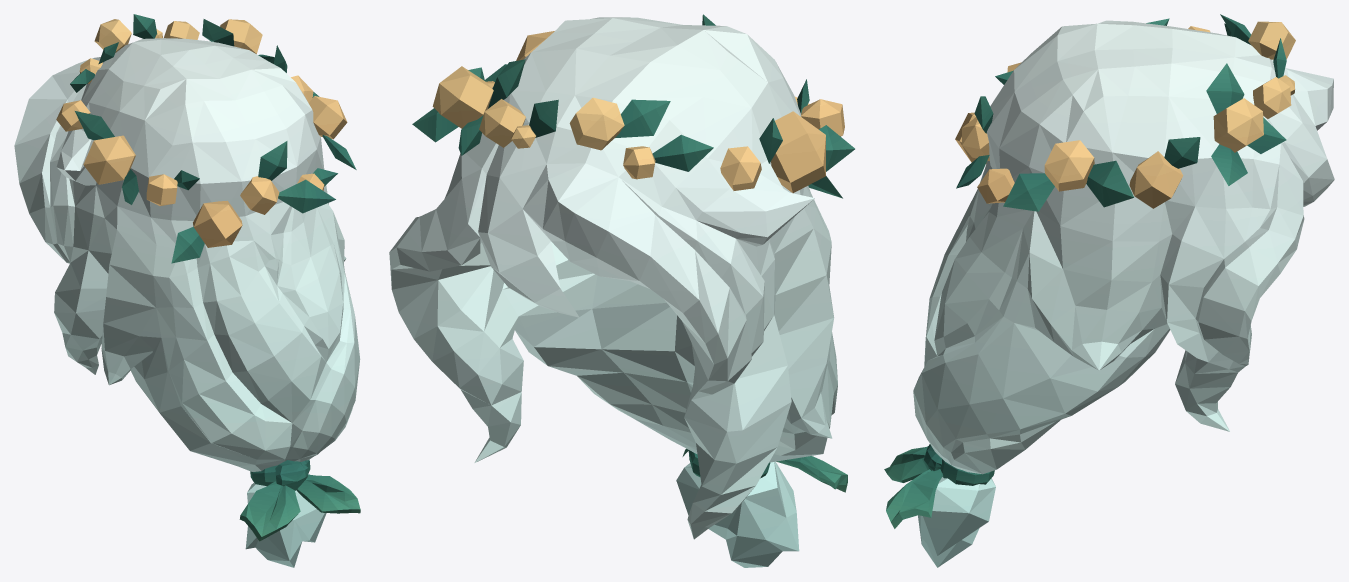
File: CharSkyKid_Hair_AP10StrawCrown_01.glb
3 renders of one model, left to right at view 1: azimuth 30°, elevation 25°; view 2: azimuth 150°, elevation 25°; view 3: azimuth 270°, elevation 25°, orthographic. The views are drawn at different scales.
Parts seen in each view (by area): view 1: CharSkyKid_Hair_AP10StrawCrown_01; view 2: CharSkyKid_Hair_AP10StrawCrown_01; view 3: CharSkyKid_Hair_AP10StrawCrown_01.
Part boxes in pixels (<box>): CharSkyKid_Hair_AP10StrawCrown_01: <box>14,14,360,567</box>; CharSkyKid_Hair_AP10StrawCrown_01: <box>389,14,854,567</box>; CharSkyKid_Hair_AP10StrawCrown_01: <box>884,14,1334,567</box>.
Bounding box in the file's own units: 3.54 × 5.8 × 4.5.
Materials: 1 (1 with a texture image).
